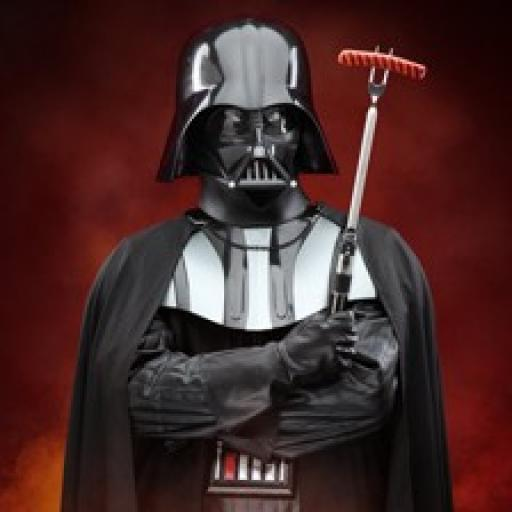human: (74, 19, 451, 512)
lightsaber: (317, 102, 382, 352)
